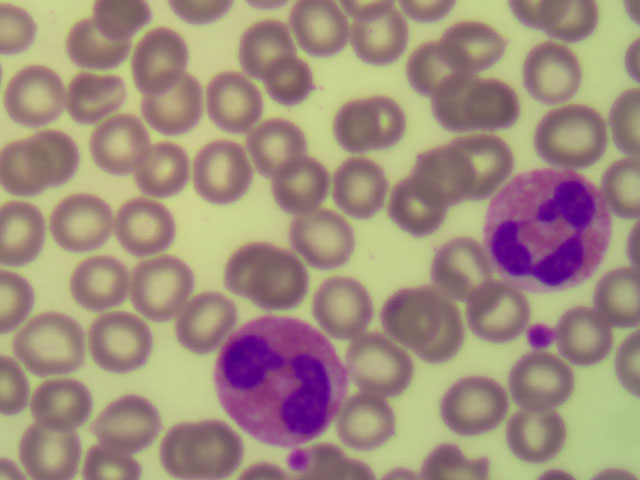Platelets: (532, 325, 551, 346), (289, 450, 307, 470)
RBC: (426, 231, 489, 305), (141, 71, 205, 134), (531, 109, 605, 162), (453, 129, 513, 193), (24, 310, 82, 372), (132, 28, 186, 94), (66, 18, 128, 70), (555, 304, 611, 361), (440, 380, 501, 430), (118, 199, 173, 252), (60, 194, 115, 247), (158, 421, 213, 474), (188, 418, 243, 471), (238, 20, 293, 73), (89, 114, 144, 167), (330, 97, 385, 150), (332, 158, 387, 211), (467, 282, 522, 335), (387, 288, 442, 341), (100, 398, 155, 451), (35, 376, 90, 429), (21, 130, 76, 183), (7, 64, 62, 117), (69, 68, 124, 121), (206, 73, 261, 126), (249, 118, 304, 171), (272, 155, 327, 208), (293, 210, 348, 263), (70, 258, 125, 311), (134, 260, 189, 313), (178, 295, 233, 348), (225, 243, 280, 296), (251, 252, 306, 305), (93, 313, 148, 366), (192, 144, 247, 197), (464, 75, 519, 128), (20, 423, 75, 476), (510, 409, 565, 462), (514, 354, 569, 407), (526, 49, 581, 102), (388, 176, 443, 229), (408, 37, 463, 90), (431, 73, 486, 126), (418, 145, 473, 198), (353, 9, 408, 62), (135, 143, 190, 196), (293, 1, 348, 53), (444, 21, 504, 68), (1, 138, 54, 191), (428, 442, 500, 480), (316, 285, 372, 333), (338, 394, 394, 442), (352, 345, 408, 393), (599, 265, 640, 329), (538, 1, 600, 43), (1, 201, 41, 265), (87, 1, 147, 39), (1, 270, 34, 331), (609, 93, 640, 156), (609, 154, 640, 217), (1, 1, 36, 55), (613, 330, 640, 394)
WBC: (227, 321, 350, 439), (487, 173, 610, 291)
